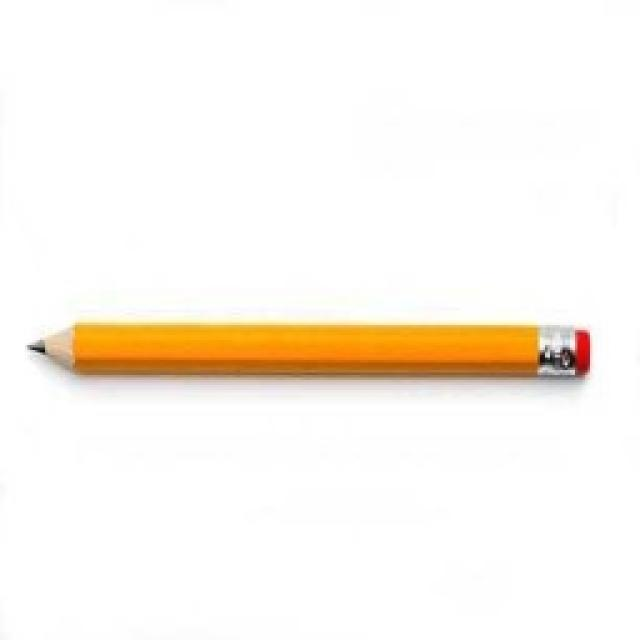pencil: (22, 315, 592, 383)
